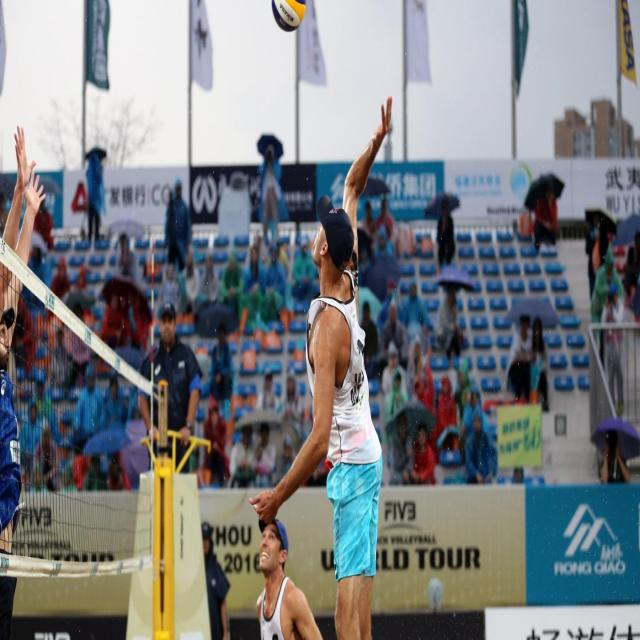body: (246, 90, 398, 639), (0, 120, 50, 640), (137, 300, 204, 475), (256, 516, 323, 640), (14, 450, 140, 494), (62, 264, 94, 401), (599, 280, 627, 418), (201, 520, 231, 639), (167, 178, 191, 306), (302, 411, 341, 489), (431, 280, 466, 364), (590, 243, 625, 323), (71, 361, 107, 438), (202, 394, 231, 489), (257, 142, 283, 246), (375, 277, 404, 369), (260, 243, 288, 335), (504, 313, 532, 405), (434, 373, 460, 470), (526, 313, 550, 414), (385, 368, 409, 468), (208, 319, 236, 404), (19, 401, 44, 493), (100, 375, 126, 462), (399, 276, 429, 350), (464, 414, 494, 484), (386, 412, 414, 486), (585, 212, 609, 298), (228, 422, 258, 490), (623, 221, 640, 339), (12, 296, 36, 379), (532, 188, 562, 254), (84, 149, 105, 243), (33, 426, 62, 493), (46, 253, 72, 324), (193, 251, 220, 317), (220, 247, 243, 324), (600, 428, 631, 484), (408, 360, 436, 422), (277, 376, 304, 440), (410, 422, 437, 486), (32, 194, 55, 269), (252, 421, 278, 487), (404, 333, 428, 404), (381, 339, 408, 402), (31, 379, 60, 437), (177, 242, 201, 312), (451, 354, 473, 429), (462, 386, 490, 442), (101, 290, 127, 350), (22, 246, 44, 312), (291, 241, 316, 299), (360, 301, 378, 380), (436, 200, 456, 268), (242, 243, 267, 294), (383, 304, 405, 360), (355, 245, 374, 308), (128, 406, 153, 450), (160, 262, 180, 313), (374, 196, 395, 244), (0, 186, 12, 261), (359, 200, 377, 250), (256, 372, 279, 410), (118, 232, 136, 280), (373, 224, 395, 258), (364, 217, 378, 266), (115, 354, 137, 380), (53, 328, 66, 358)
